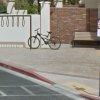Bicycle: (23, 25, 62, 54)
